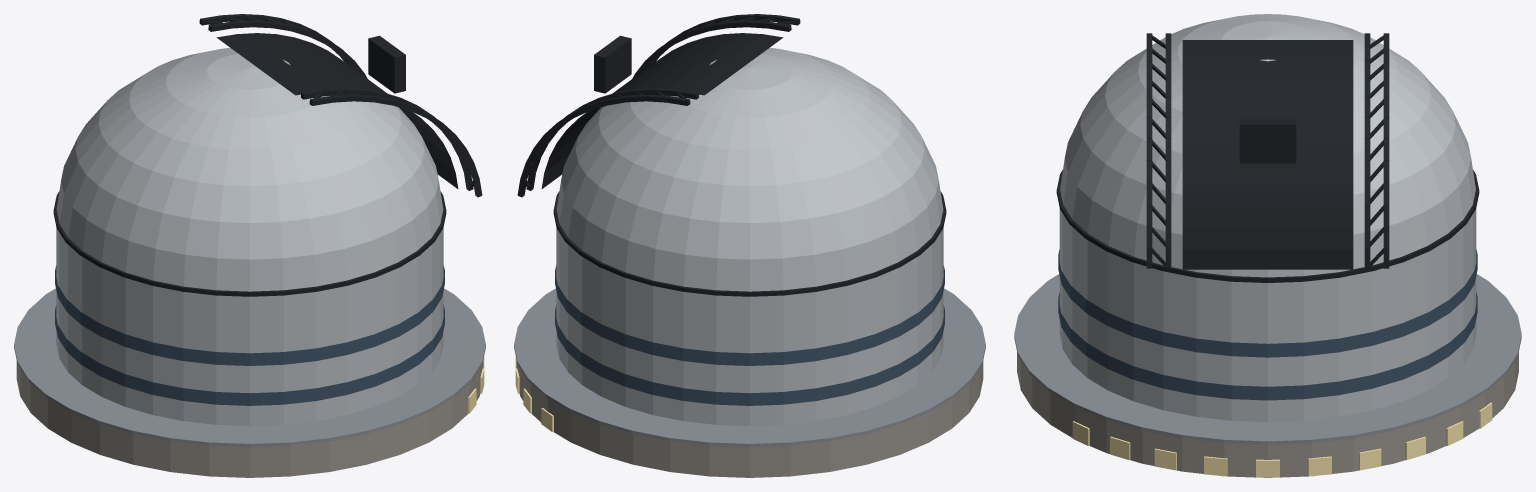
File: elt_cupula.obj
3 renders of one model, left to right at view 1: azimuth 30°, elevation 25°; view 2: azimuth 150°, elevation 25°; view 3: azimuth 270°, elevation 25°, orthographic. The views are drawn at different scales.
Parts seen in each view (by area): view 1: elt_cupula; view 2: elt_cupula; view 3: elt_cupula.
Part boxes in pixels (x1,y1,x2,y2): elt_cupula: [14, 14, 485, 477]; elt_cupula: [514, 14, 985, 477]; elt_cupula: [1014, 14, 1521, 477].
Bounding box in the file's own units: 107 × 79.68 × 107.
